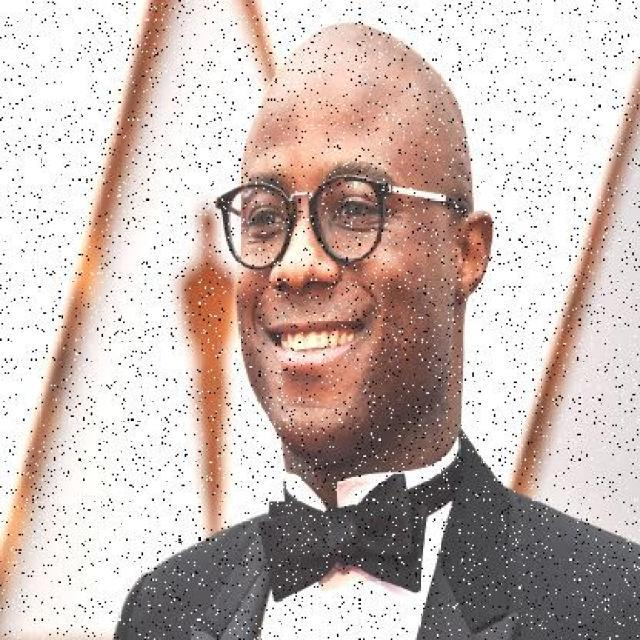glasses: (208, 168, 401, 278)
